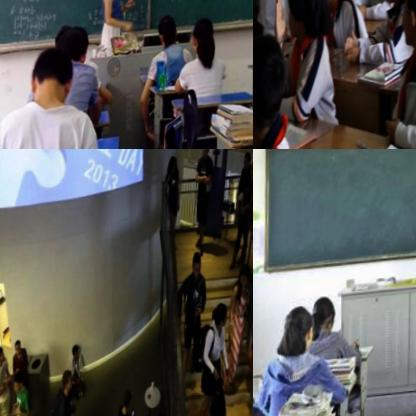head: (253, 31, 294, 149), (29, 46, 74, 108), (285, 0, 332, 47), (280, 304, 316, 354), (310, 295, 339, 338), (191, 16, 218, 57), (58, 31, 88, 66), (395, 0, 416, 50), (156, 13, 181, 48), (253, 0, 264, 51), (216, 305, 230, 335), (240, 269, 252, 296), (65, 368, 77, 394), (193, 254, 204, 282), (169, 155, 179, 181), (15, 340, 26, 361), (15, 371, 26, 392), (73, 343, 84, 362), (125, 392, 135, 411), (243, 156, 253, 175), (0, 346, 8, 365), (200, 149, 210, 163), (250, 161, 253, 188)
